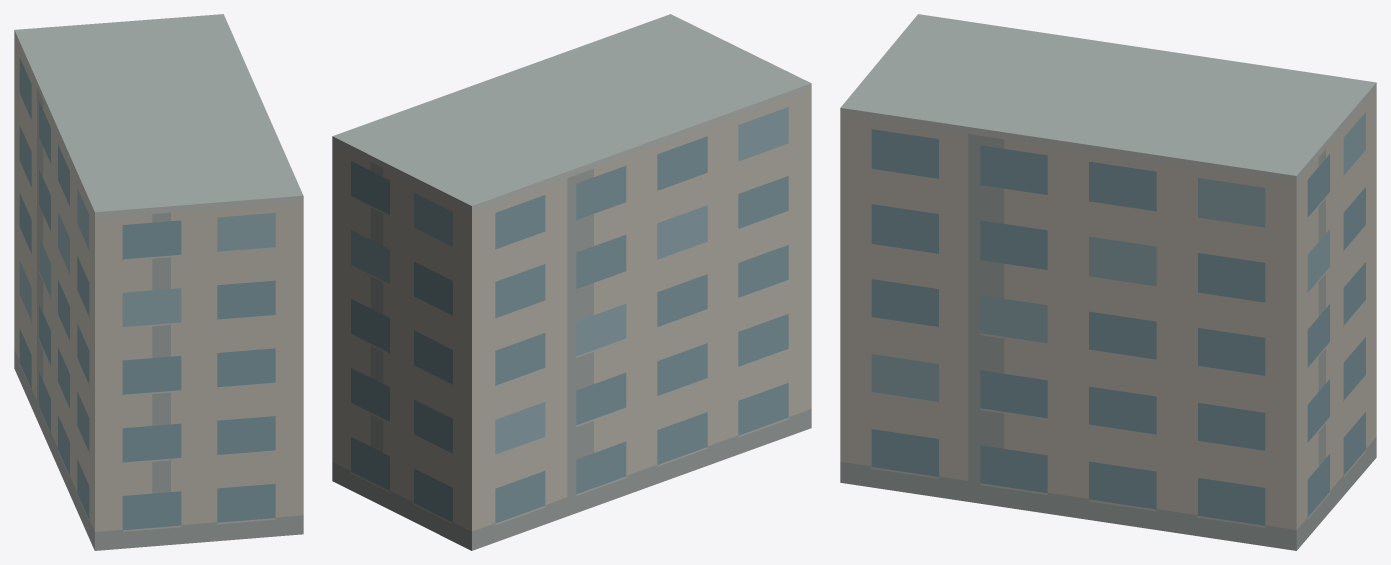
File: survey-upis-32888332.glb
3 renders of one model, left to right at view 1: azimuth 30°, elevation 25°; view 2: azimuth 150°, elevation 25°; view 3: azimuth 270°, elevation 25°, orthographic. The views are drawn at different scales.
Parts seen in each view (by area): view 1: survey-upis-32888332.tmp; view 2: survey-upis-32888332.tmp; view 3: survey-upis-32888332.tmp.
Boxes of the visible parts, x1,y1,x2,y2 form: survey-upis-32888332.tmp: (14,14,303,550); survey-upis-32888332.tmp: (332,14,811,550); survey-upis-32888332.tmp: (840,14,1376,550).
Size of the model in its own units: 12.01 by 12.95 by 16.8.
